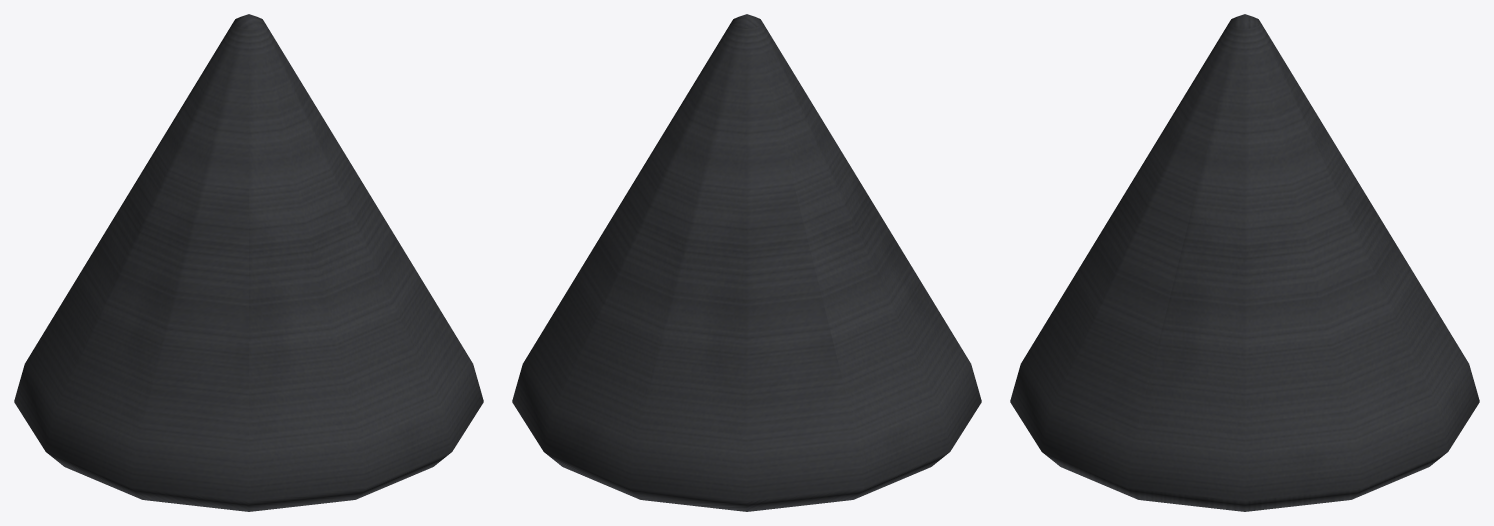
The picture shows the model from 3 angles, left to right: view 1: azimuth 30°, elevation 25°; view 2: azimuth 150°, elevation 25°; view 3: azimuth 270°, elevation 25°; orthographic projection.
Parts seen in each view (by area): view 1: R4B_Cone_LOD1; view 2: R4B_Cone_LOD1; view 3: R4B_Cone_LOD1.
Boxes of the visible parts, <box> form: R4B_Cone_LOD1: <box>14,14,483,511</box>; R4B_Cone_LOD1: <box>512,14,981,511</box>; R4B_Cone_LOD1: <box>1010,14,1479,511</box>.
Bounding box in the file's own units: 0.52 × 0.4987 × 0.52.
Materials: 1 (1 with a texture image).
